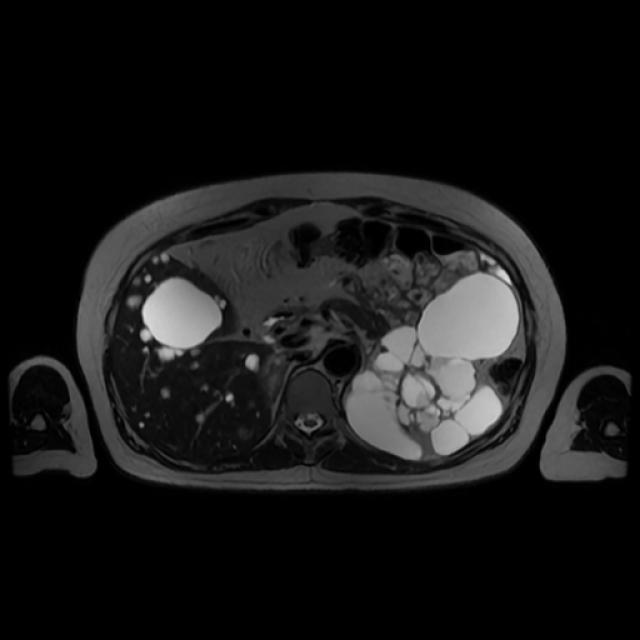sol: (348, 269, 521, 460)
